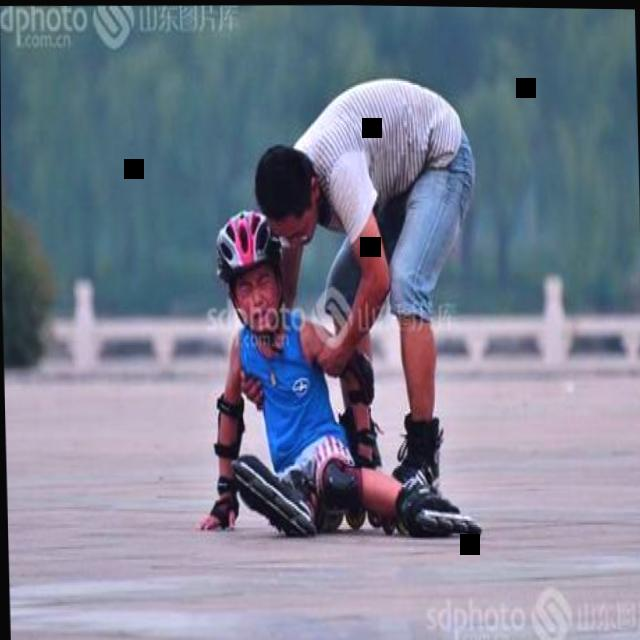Fall-Detected: (187, 200, 466, 549)
